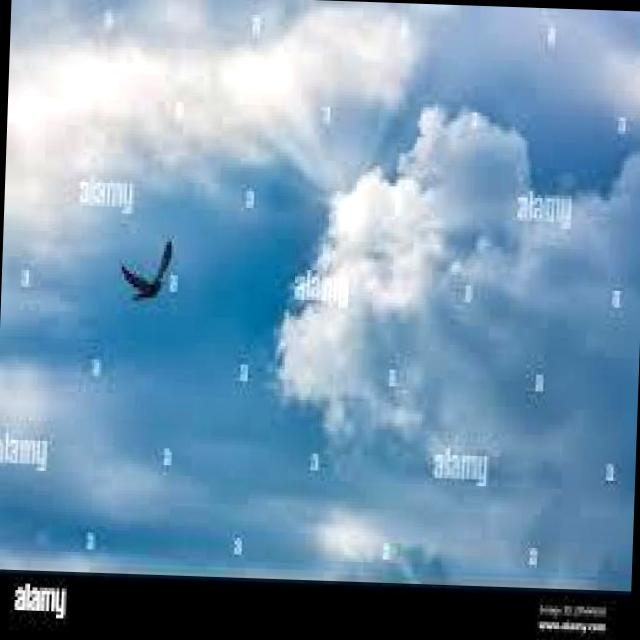bird: (117, 237, 177, 305)
